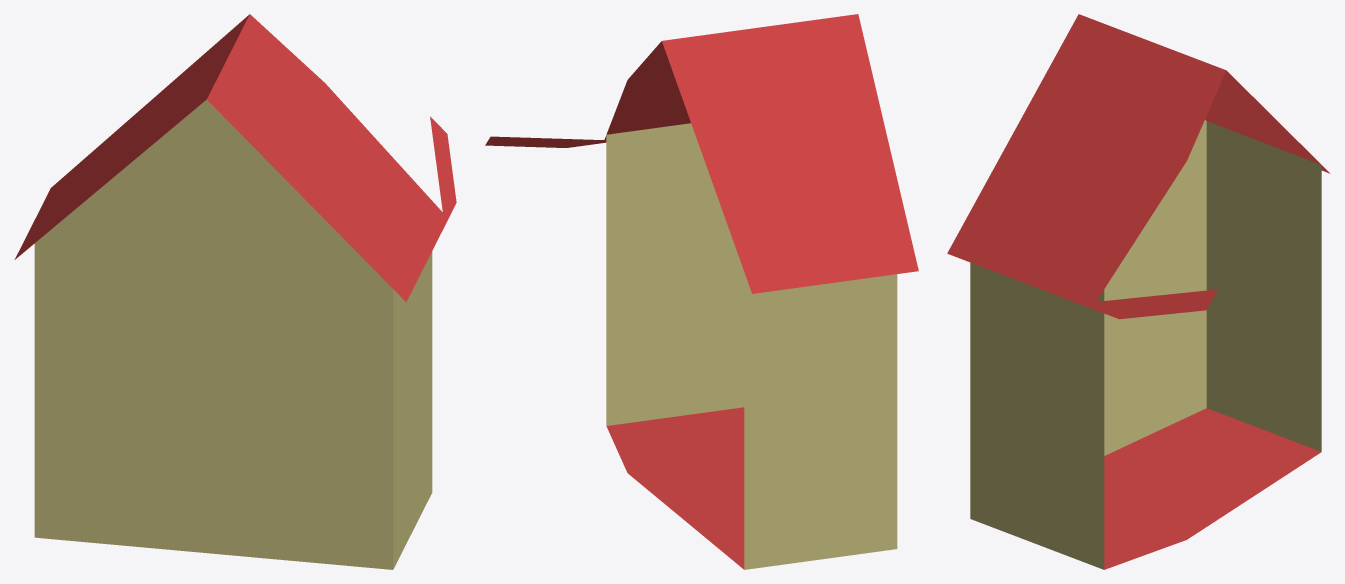
The picture shows the model from 3 angles, left to right: view 1: azimuth 30°, elevation 25°; view 2: azimuth 150°, elevation 25°; view 3: azimuth 270°, elevation 25°; orthographic projection. The views are drawn at different scales.
Bounding box in the file's own units: 14.68 × 11.69 × 14.91.
